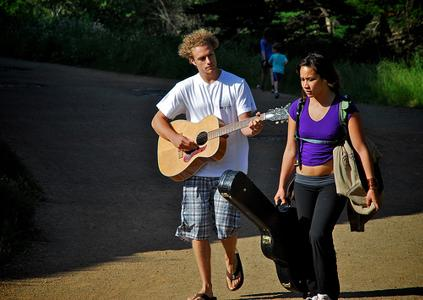person: (152, 29, 265, 300)
